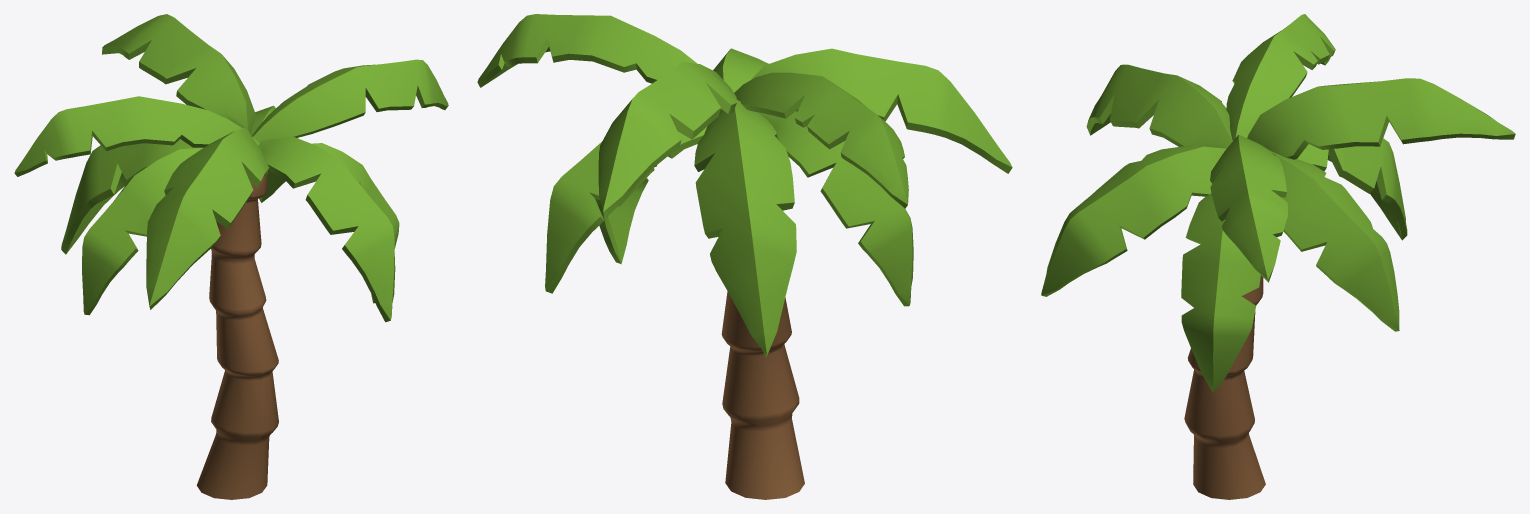
Rendered from palmera.glb.
3 renders of one model, left to right at view 1: azimuth 30°, elevation 25°; view 2: azimuth 150°, elevation 25°; view 3: azimuth 270°, elevation 25°, orthographic. The views are drawn at different scales.
Visible parts, largest first — view 1: Environment_PalmTree_3; view 2: Environment_PalmTree_3; view 3: Environment_PalmTree_3.
Boxes of the visible parts, box(x1,y1,x2,y2) form: Environment_PalmTree_3: box(14, 14, 448, 499); Environment_PalmTree_3: box(477, 14, 1012, 499); Environment_PalmTree_3: box(1041, 14, 1515, 499).
Bounding box in the file's own units: 2.86 × 2.69 × 2.75.
Materials: 1 (1 with a texture image).
